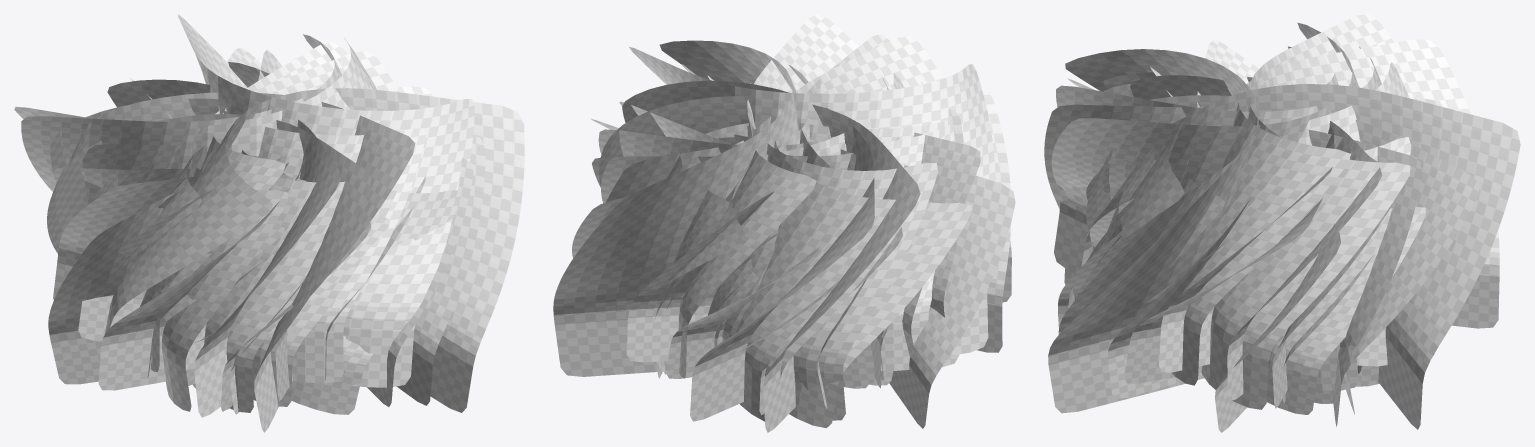
Rendered from green_grass.glb.
3 renders of one model, left to right at view 1: azimuth 30°, elevation 25°; view 2: azimuth 150°, elevation 25°; view 3: azimuth 270°, elevation 25°, orthographic. The views are drawn at different scales.
Bounding box in the file's own units: 235 × 150 × 231.
Materials: 1 (1 with a texture image).
